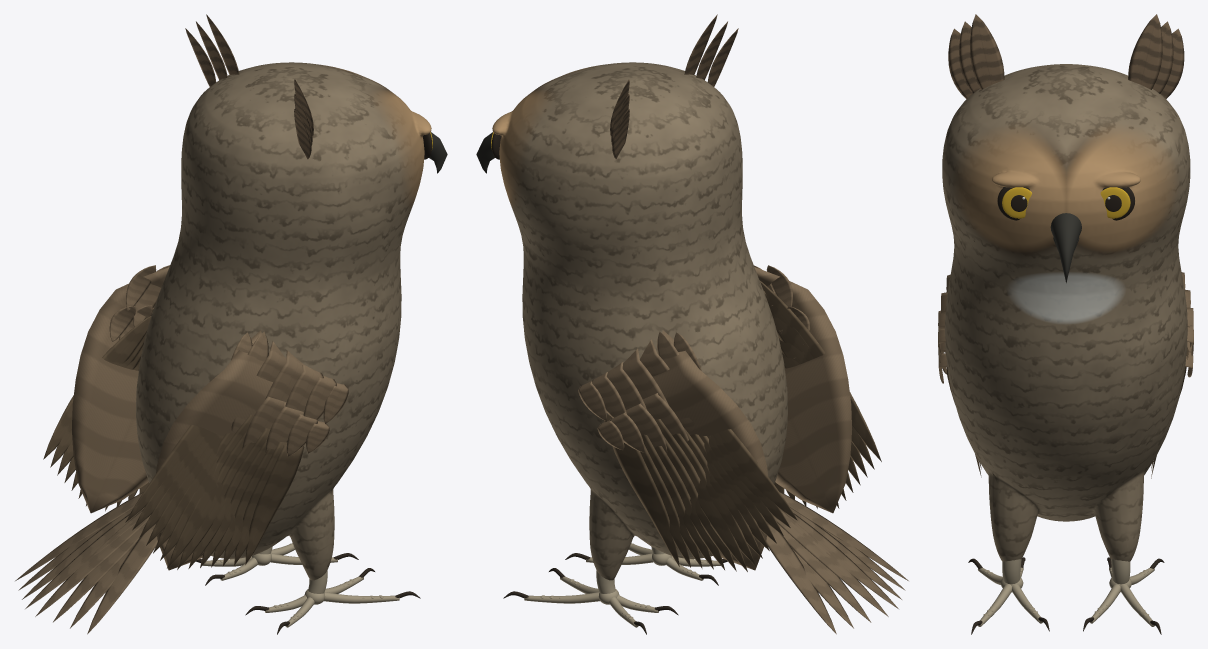
The model's file is T01-Owl-Innerscene-R156-HybridNormal-1024.glb.
The picture shows the model from 3 angles, left to right: view 1: azimuth 30°, elevation 25°; view 2: azimuth 150°, elevation 25°; view 3: azimuth 270°, elevation 25°; orthographic projection. The views are drawn at different scales.
Parts seen in each view (by area): view 1: Continuous anatomical skin | owl, Cambered folded wing foundation.001, Cambered folded wing foundation, Overlapping closed flight feather 13, Overlapping tail rectrix 00, Overlapping closed flight feather 06, Overlapping closed flight feather 13.001, Overlapping tail rectrix 03, Overlapping closed flight feather 00, Overlapping tail rectrix 04, Overlapping closed flight feather 09, Overlapping tail rectrix 07 (+22 smaller); view 2: Continuous anatomical skin | owl, Cambered folded wing foundation, Cambered folded wing foundation.001, Overlapping closed flight feather 00.001, Overlapping closed flight feather 00, Overlapping tail rectrix 07, Overlapping closed flight feather 13.001, Overlapping closed flight feather 06.001, Overlapping tail rectrix 04, Overlapping tail rectrix 03, Overlapping closed flight feather 05.001, Overlapping tail rectrix 00 (+21 smaller); view 3: Continuous anatomical skin | owl, Paired owl feather tuft, not an anatomical ear, Paired owl feather tuft, not an anatomical ear.003, Closed descending upper hook and seated cere, Paired owl feather tuft, not an anatomical ear.004, Paired owl feather tuft, not an anatomical ear.001, Paired owl feather tuft, not an anatomical ear.002, Paired owl feather tuft, not an anatomical ear.005, Flush golden owl iris, Flush golden owl iris.001, Bare raptor tarsus seated inside thigh and foot, Bare raptor tarsus seated inside thigh and foot.001 (+2 smaller).
Part boxes in pixels (box(x1,y1,x2,y2)): Continuous anatomical skin | owl: box(136, 62, 431, 580); Cambered folded wing foundation.001: box(72, 267, 169, 513); Cambered folded wing foundation: box(155, 330, 272, 570); Overlapping closed flight feather 13: box(245, 445, 304, 564); Overlapping tail rectrix 00: box(87, 524, 157, 634); Overlapping closed flight feather 06: box(167, 414, 253, 568); Overlapping closed flight feather 13.001: box(43, 316, 151, 459); Overlapping tail rectrix 03: box(35, 509, 150, 616); Overlapping closed flight feather 00: box(125, 425, 208, 522); Overlapping tail rectrix 04: box(25, 508, 143, 608); Overlapping closed flight feather 09: box(200, 428, 270, 567); Overlapping tail rectrix 07: box(15, 492, 143, 580); Continuous anatomical skin | owl: box(492, 62, 787, 580); Cambered folded wing foundation: box(754, 267, 851, 513); Cambered folded wing foundation.001: box(653, 330, 768, 570); Overlapping closed flight feather 00.001: box(604, 415, 679, 566); Overlapping closed flight feather 00: box(759, 280, 881, 461); Overlapping tail rectrix 07: box(766, 524, 836, 634); Overlapping closed flight feather 13.001: box(718, 429, 797, 520); Overlapping closed flight feather 06.001: box(672, 433, 747, 571); Overlapping tail rectrix 04: box(774, 510, 888, 616); Overlapping tail rectrix 03: box(785, 513, 898, 608); Overlapping closed flight feather 05.001: box(655, 419, 736, 571); Overlapping tail rectrix 00: box(779, 491, 908, 580); Continuous anatomical skin | owl: box(942, 64, 1190, 561); Paired owl feather tuft, not an anatomical ear: box(970, 14, 1004, 89); Paired owl feather tuft, not an anatomical ear.003: box(1128, 14, 1162, 89); Closed descending upper hook and seated cere: box(1050, 213, 1081, 283); Paired owl feather tuft, not an anatomical ear.004: box(1152, 21, 1173, 93); Paired owl feather tuft, not an anatomical ear.001: box(959, 21, 979, 93); Paired owl feather tuft, not an anatomical ear.002: box(948, 28, 971, 98); Paired owl feather tuft, not an anatomical ear.005: box(1160, 28, 1184, 98); Flush golden owl iris: box(1002, 187, 1031, 218); Flush golden owl iris.001: box(1100, 187, 1130, 218); Bare raptor tarsus seated inside thigh and foot: box(1002, 559, 1021, 584); Bare raptor tarsus seated inside thigh and foot.001: box(1111, 559, 1130, 584).
Bounding box in the file's own units: 0.408 × 0.5128 × 0.2121.
Materials: 12 (12 with a texture image).
